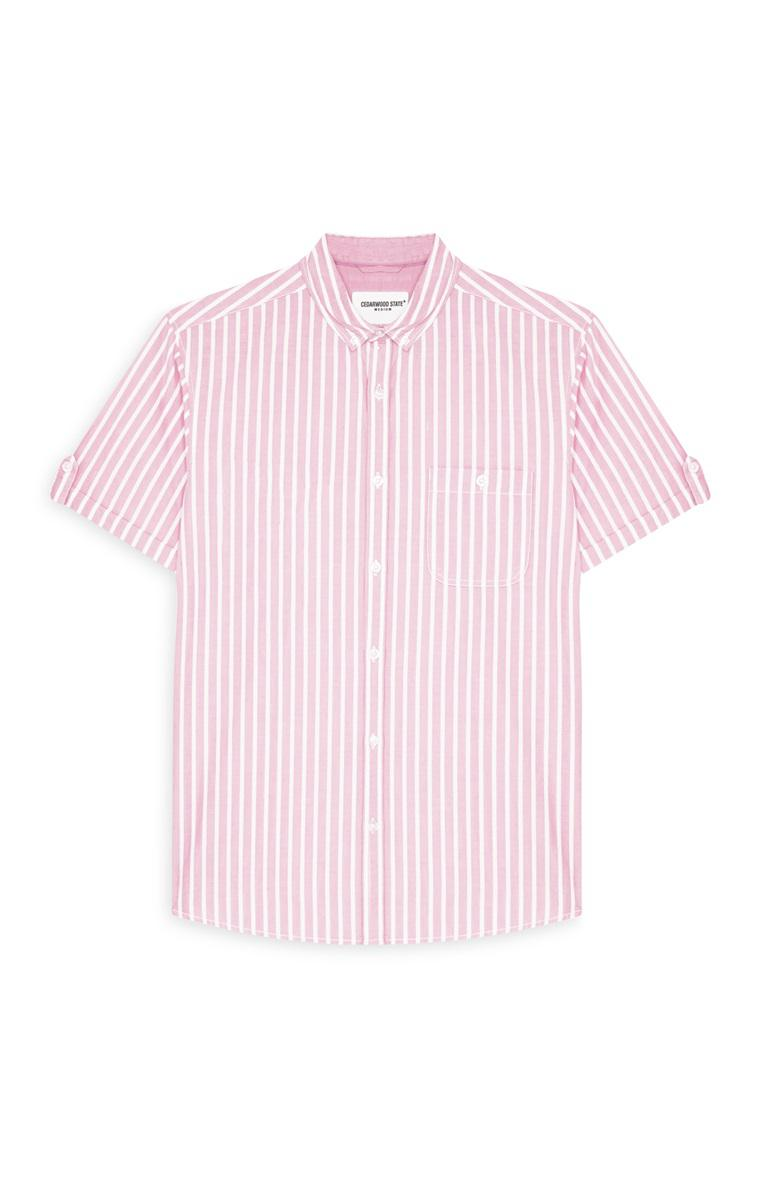teeshirt: (25, 220, 718, 943)
